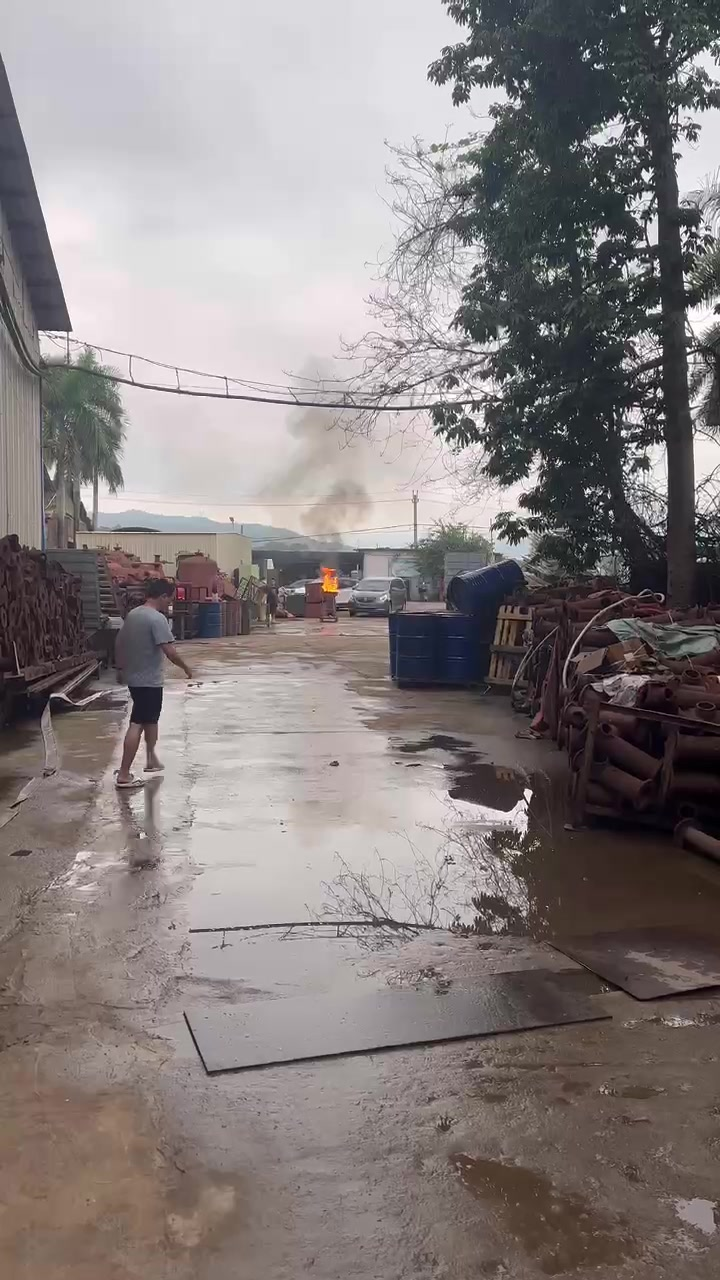fire: (321, 567, 339, 591)
